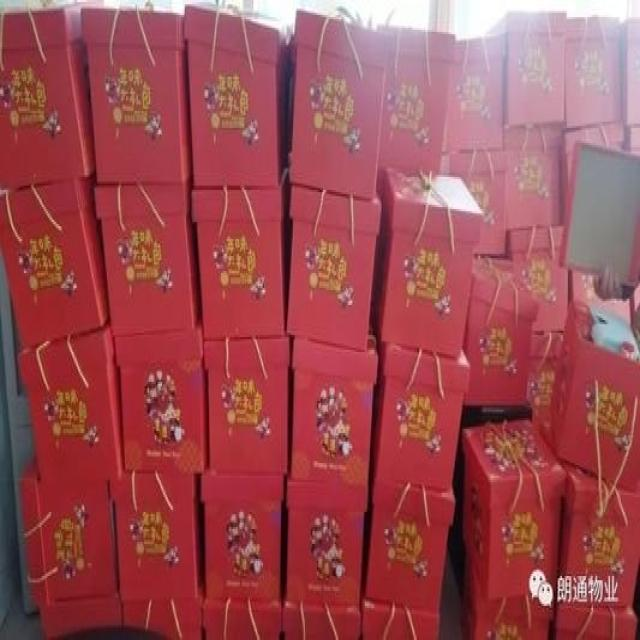box: (376, 167, 482, 359), (81, 8, 191, 185), (0, 171, 110, 347), (183, 4, 287, 188), (290, 9, 389, 200), (462, 419, 566, 600), (0, 7, 95, 190), (94, 175, 200, 337), (17, 320, 123, 479), (286, 186, 382, 351), (18, 448, 118, 603), (548, 332, 639, 492), (115, 318, 208, 474), (192, 186, 285, 340), (374, 341, 470, 490), (291, 323, 378, 484), (364, 475, 455, 614), (557, 458, 639, 607), (204, 337, 289, 476), (377, 26, 456, 174), (201, 459, 283, 600), (110, 470, 197, 601), (462, 258, 539, 406), (286, 479, 368, 607), (484, 12, 566, 126), (463, 551, 553, 638), (443, 36, 505, 154), (440, 153, 510, 256), (560, 17, 621, 130), (506, 227, 569, 332), (559, 122, 623, 224), (503, 123, 561, 230), (527, 331, 563, 458), (123, 589, 205, 638), (555, 592, 638, 638), (38, 596, 123, 638), (360, 596, 440, 638), (203, 598, 281, 638), (282, 601, 360, 638)
